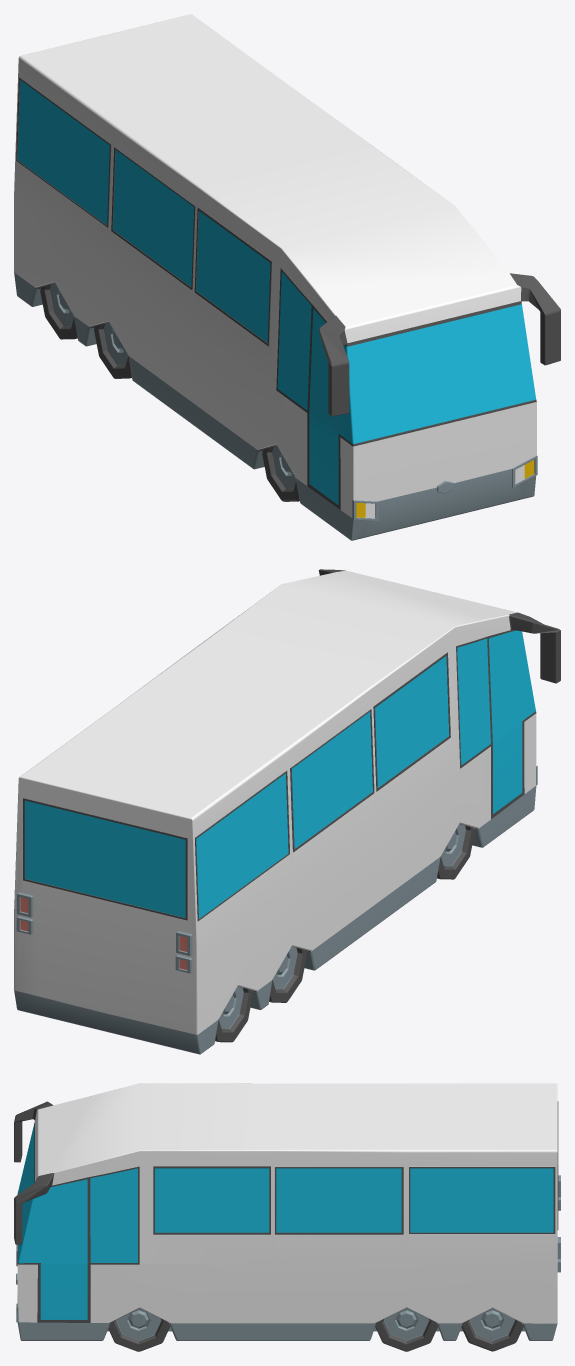
Rendered from bus.glb.
3 views of the same model, one above another, from view 1: azimuth 30°, elevation 25°; view 2: azimuth 150°, elevation 25°; view 3: azimuth 270°, elevation 25° (orthographic). The views are drawn at different scales.
Parts seen in each view (by area): view 1: bus_Cube.027; view 2: bus_Cube.027; view 3: bus_Cube.027.
Part boxes in pixels (x1=…): bus_Cube.027: x1=14, y1=14, x2=560, y2=540; bus_Cube.027: x1=14, y1=569, x2=560, y2=1054; bus_Cube.027: x1=14, y1=1083, x2=560, y2=1351.
Bounding box in the file's own units: 9.16 × 9.66 × 23.74.
